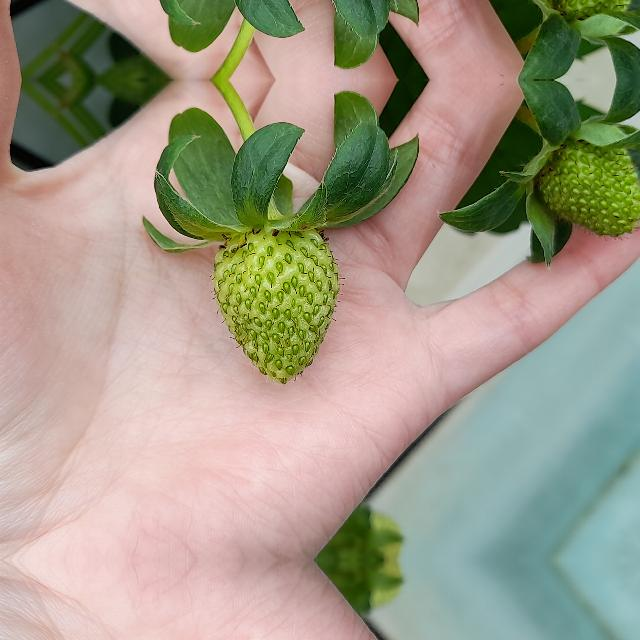Health_25: (211, 226, 339, 384), (522, 124, 640, 242), (522, 0, 639, 36)
